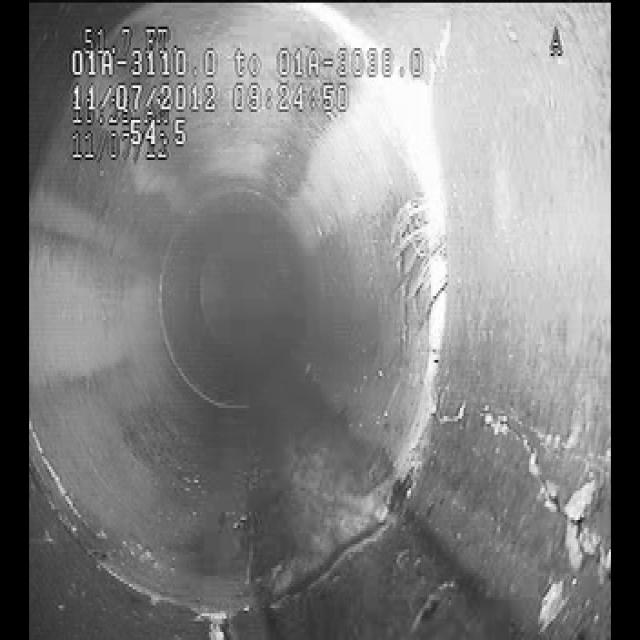Crack: (444, 370, 570, 514)
